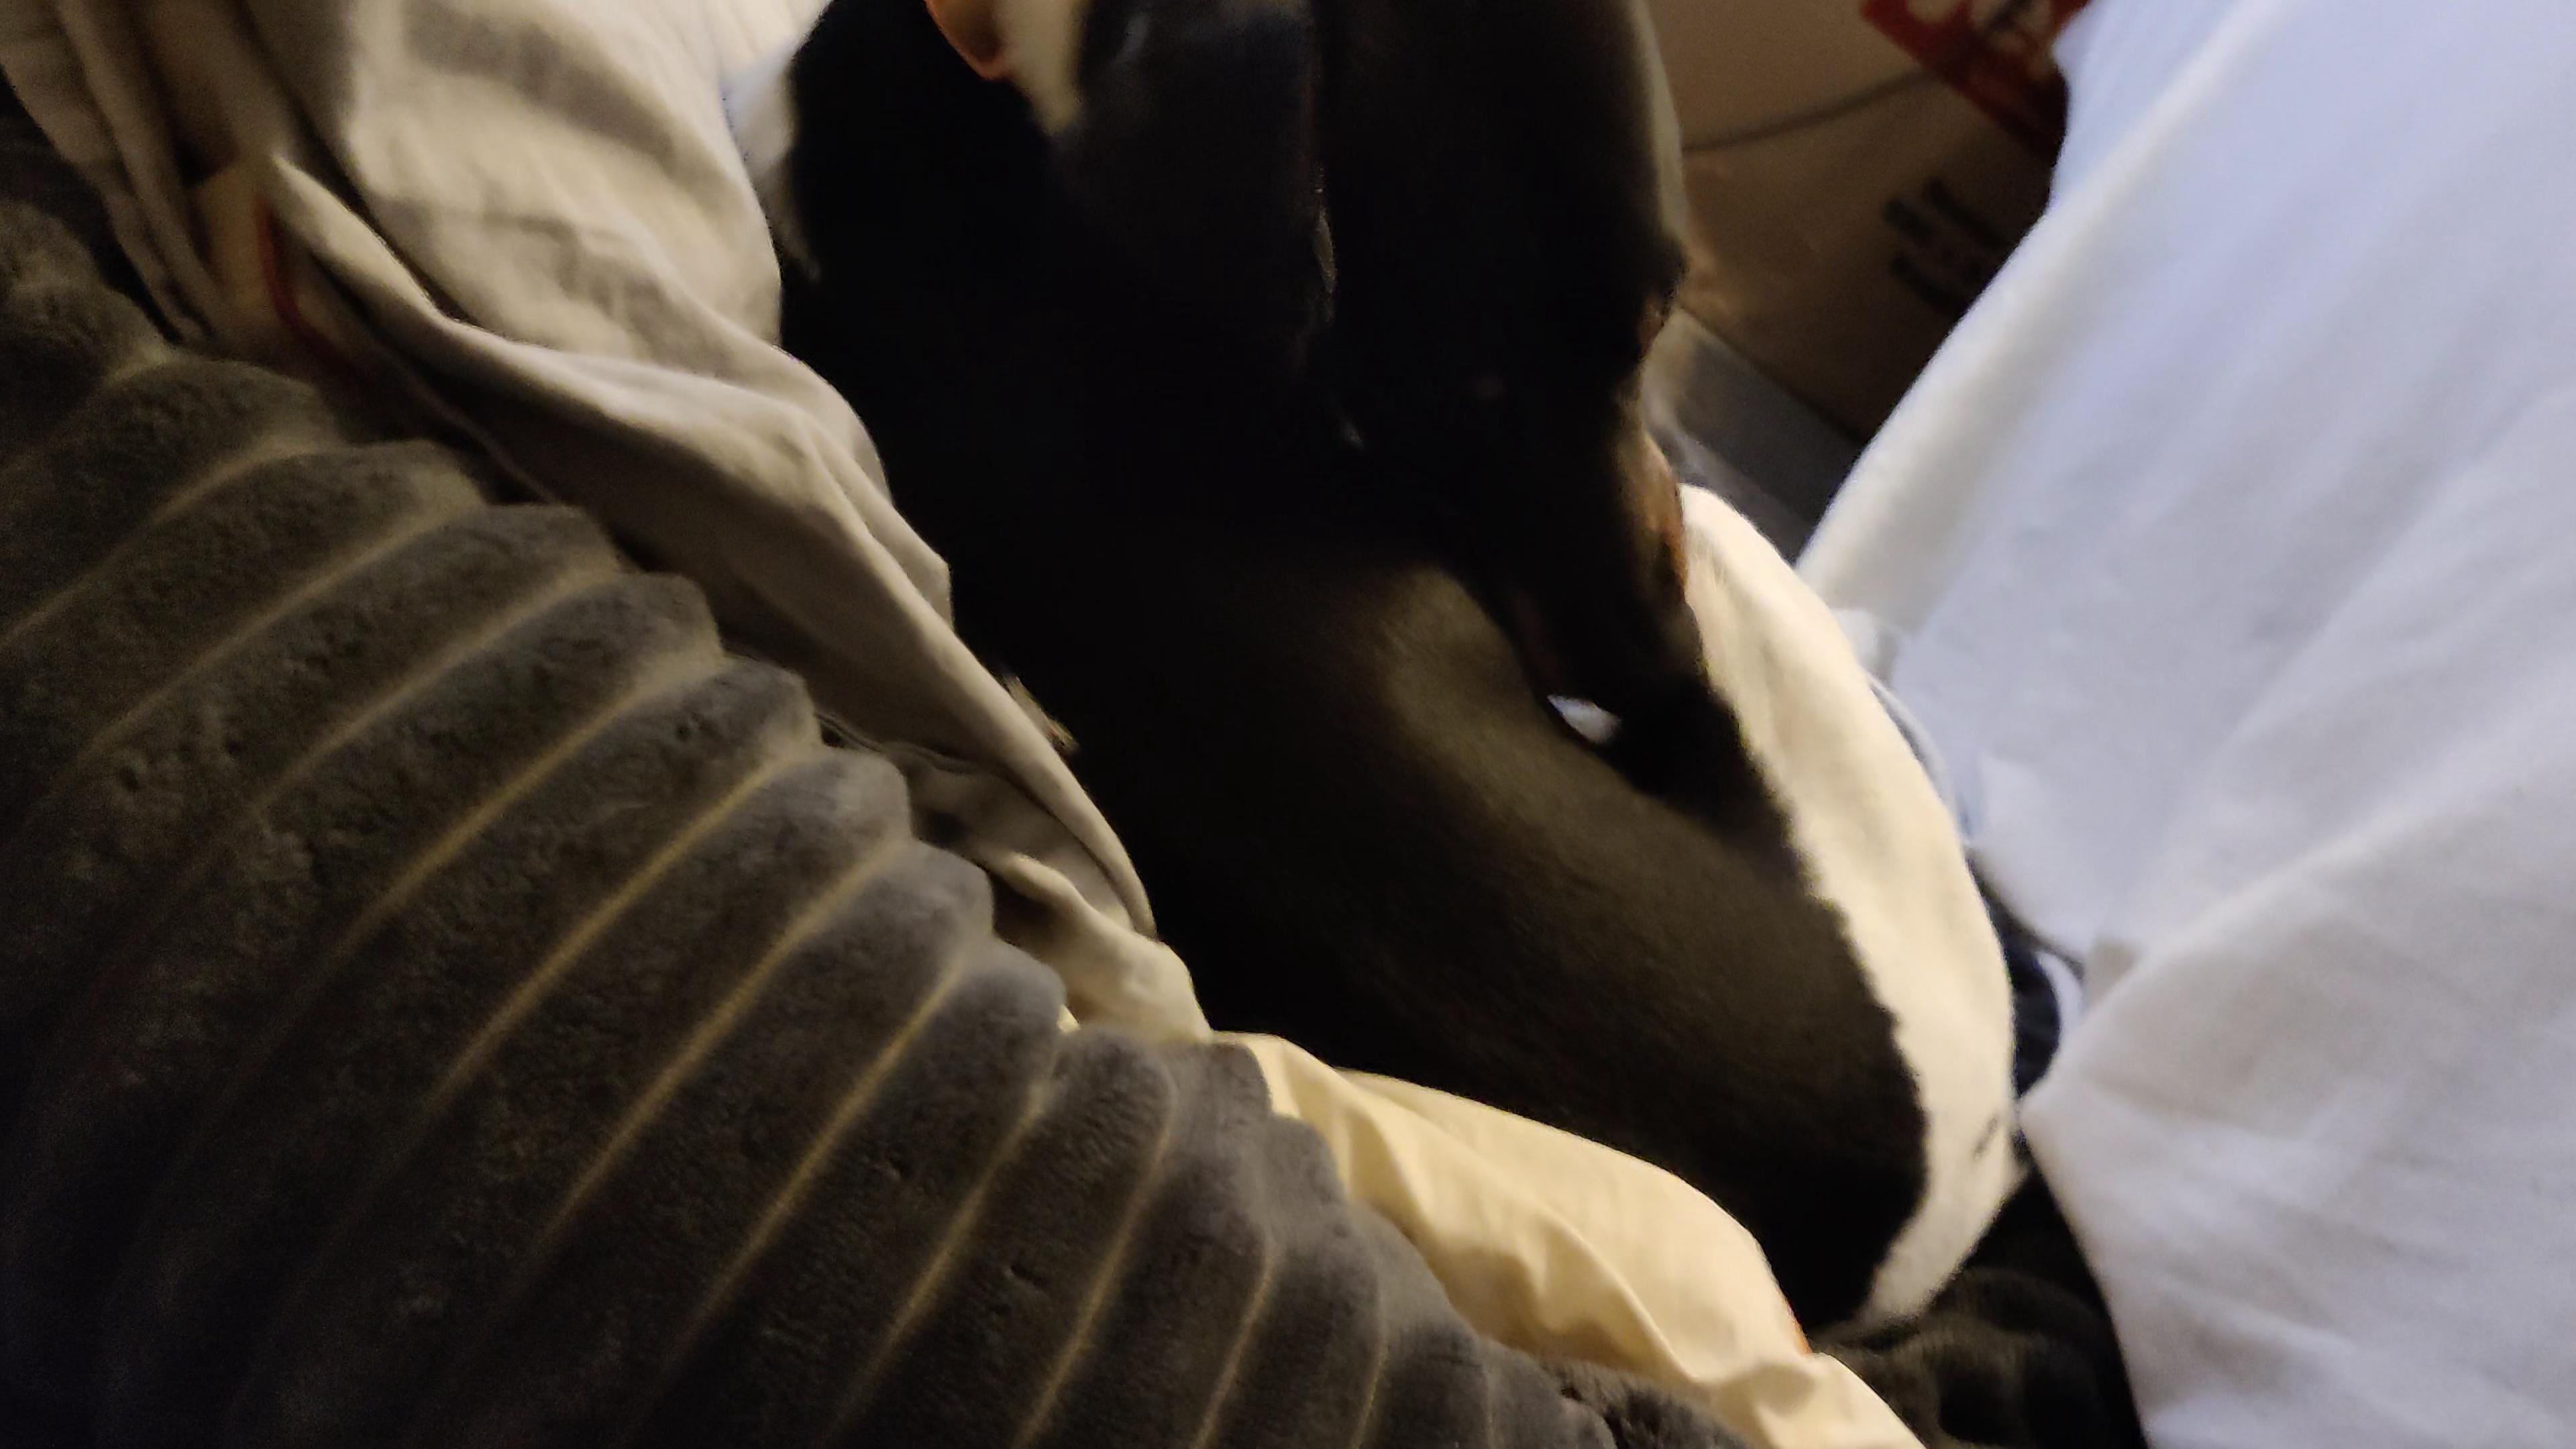Dog: (617, 0, 2109, 1373)
